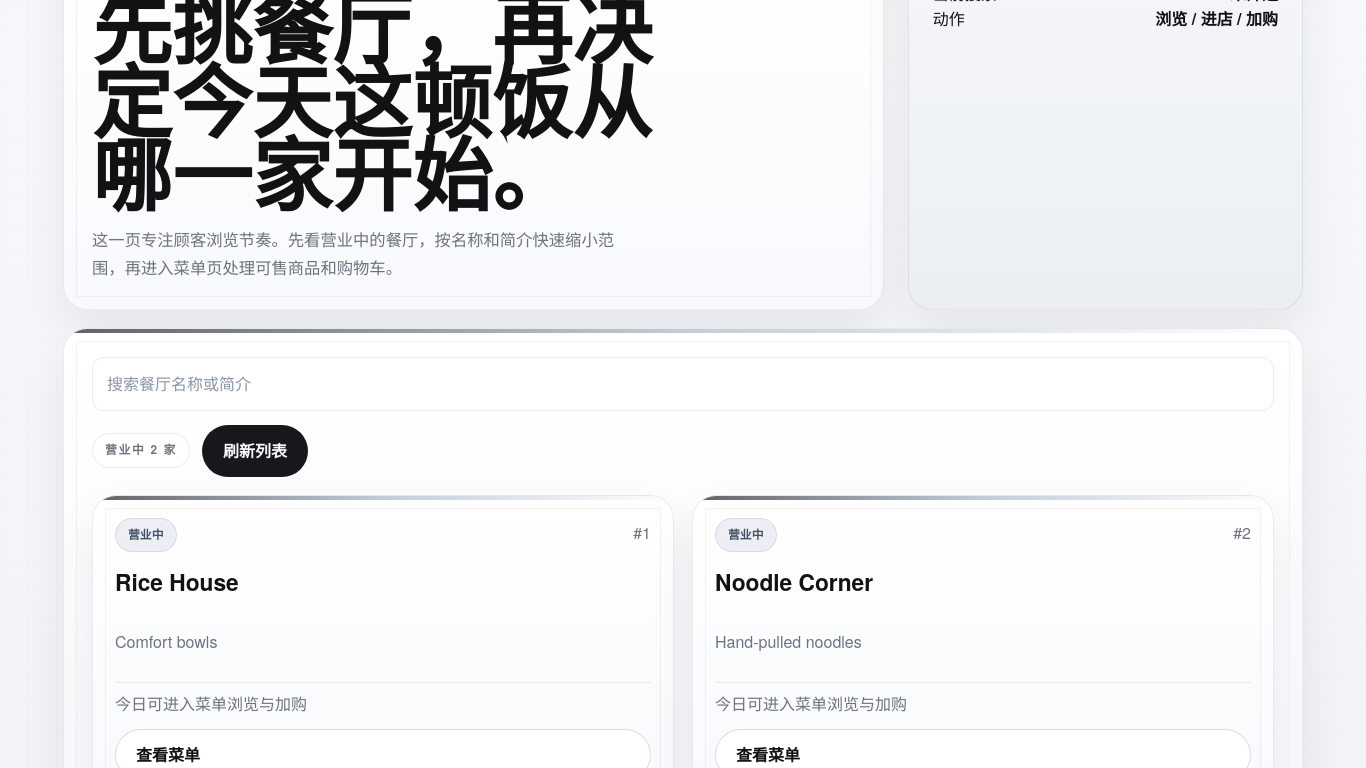
Test case: CustomerRestaurants › filters restaurants by name and description
This screenshot has width=1366, height=768.
(page scrolled)
Expected: the heading "Rice House" is shown, [115, 566, 239, 598]
Expected: the heading "Noodle Corner" is shown, [715, 566, 873, 598]
Type "noodle" into the field with placeholder "搜索餐厅名称或简介". click: {"x": 683, "y": 384}
box: [92, 357, 1274, 411]
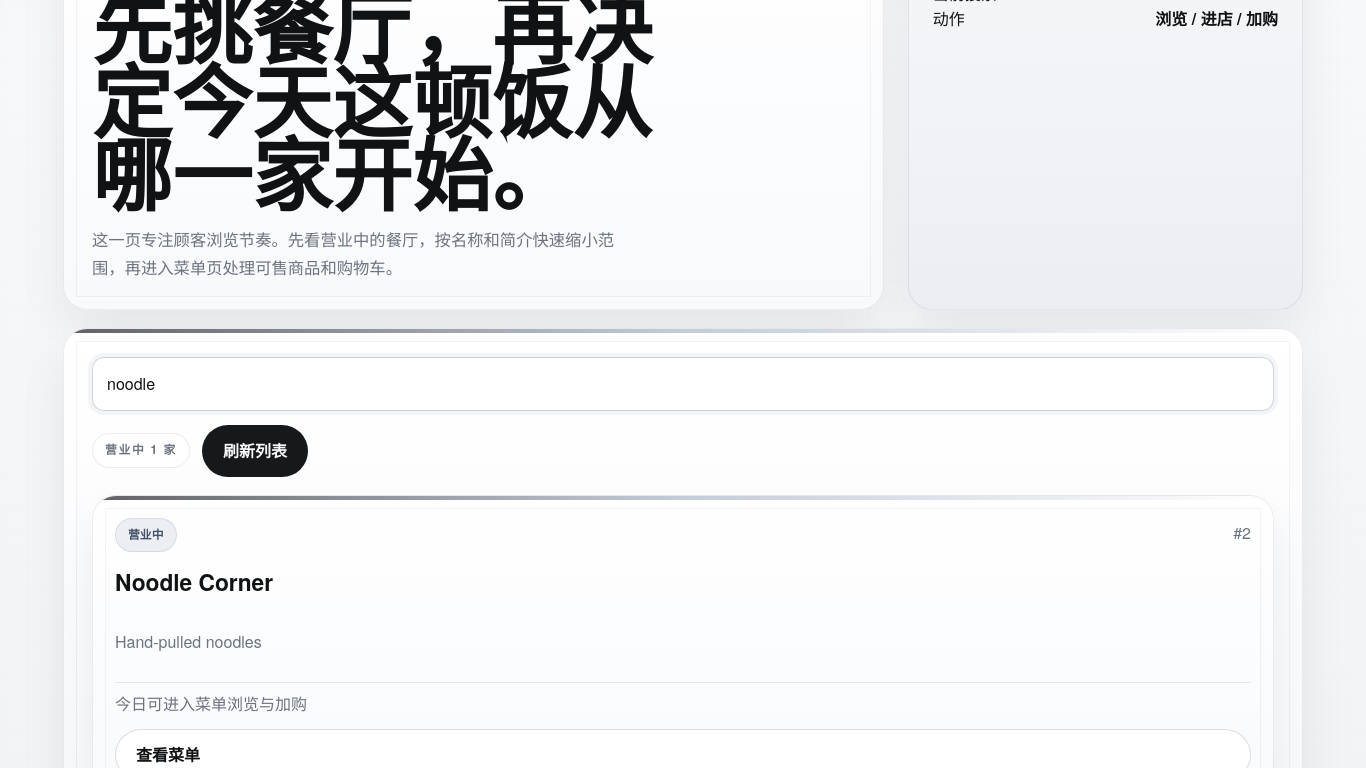
Expected: the heading "Noodle Corner" is shown, [115, 566, 273, 598]
Expected: the heading "Rice House" is gone
Expected: the text "营业中 1 家" is shown, [92, 433, 190, 468]
